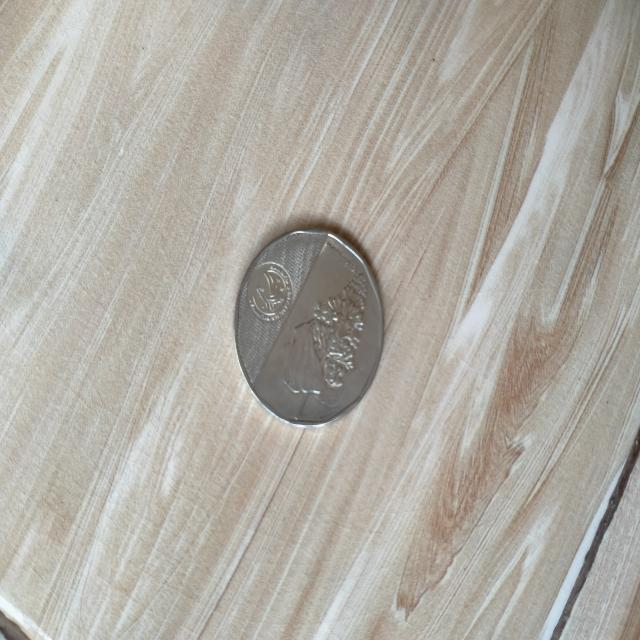10_New_Back: (277, 257, 371, 424)
